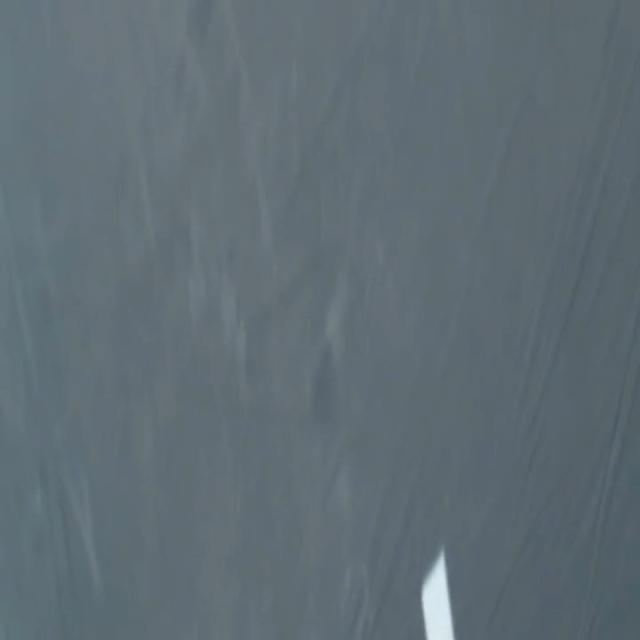center: (421, 548, 454, 639)
